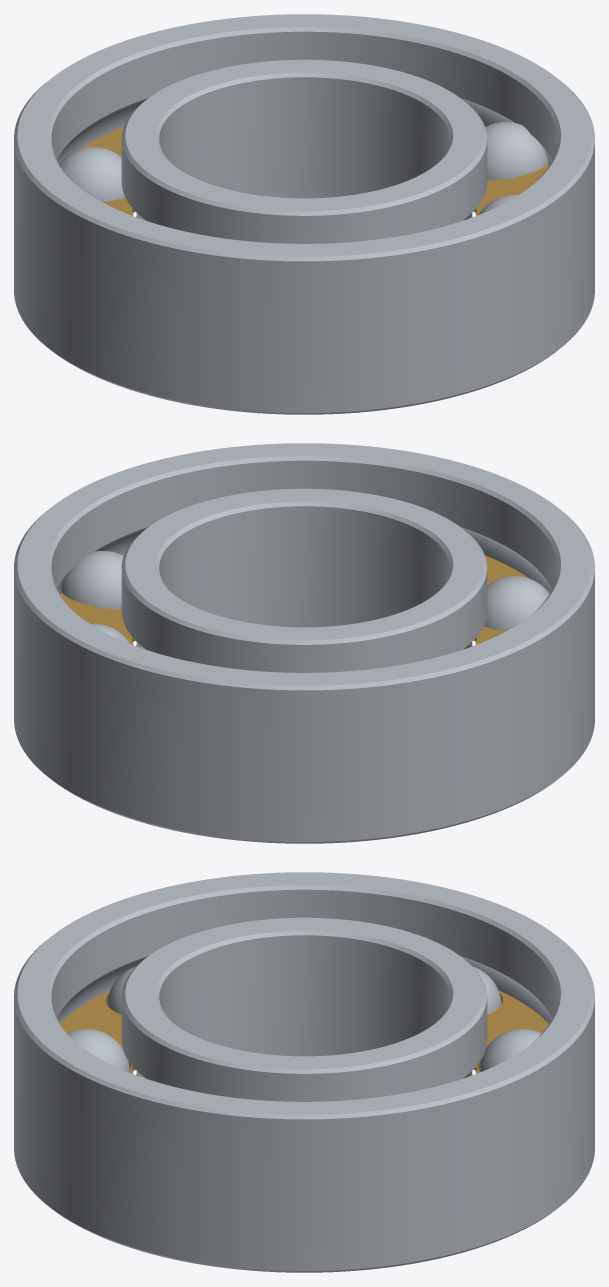
The model's file is edited.glb.
The picture shows the model from 3 angles, top to bottom: view 1: azimuth 30°, elevation 25°; view 2: azimuth 150°, elevation 25°; view 3: azimuth 270°, elevation 25°; orthographic projection.
Parts seen in each view (by area): view 1: outer_race, inner_race, ball_0000, ball_0005, cage; view 2: outer_race, inner_race, ball_0000, ball_0003, cage; view 3: outer_race, inner_race, cage, ball_0002, ball_0006.
Part boxes in pixels (<box>): outer_race: <box>14,14,594,414</box>; inner_race: <box>121,59,487,243</box>; ball_0000: <box>485,122,548,180</box>; ball_0005: <box>59,147,124,201</box>; cage: <box>80,126,548,215</box>; outer_race: <box>14,443,594,843</box>; inner_race: <box>121,488,487,672</box>; ball_0000: <box>60,551,123,609</box>; ball_0003: <box>484,576,549,630</box>; cage: <box>60,555,528,644</box>; outer_race: <box>14,872,594,1272</box>; inner_race: <box>121,917,487,1101</box>; cage: <box>60,990,548,1073</box>; ball_0002: <box>67,1029,129,1071</box>; ball_0006: <box>479,1029,541,1071</box>.
Size of the model in its own units: 0.04 by 0.012 by 0.04.
